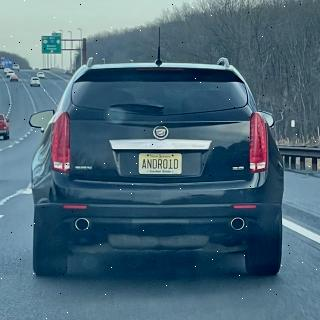license: (139, 154, 183, 175)
